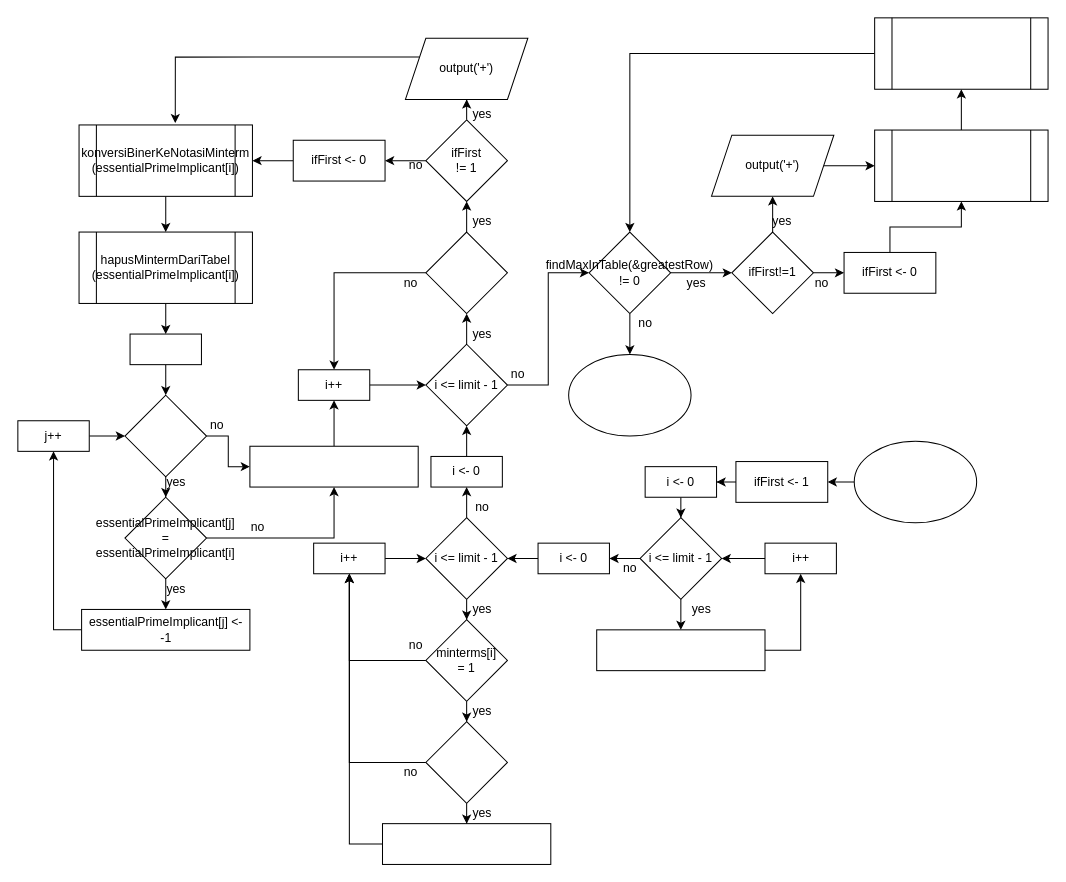
Some shapes in this 1066 by 882 pixel diagram are drawn without their labels. The centre of each missing label's shape, as x and y in pixels:
"banyakImplikan(i,&temp) =1" goes at pixel 466 762.
"essentialPrimeImplicant[i] != -1" goes at pixel 466 272.
"essentialPrimeImplicant[i] <- -1" goes at pixel 680 650.
"essentialPrimeImplicant[i] <- temp" goes at pixel 466 843.
"essentialPrimeImplicant[i]=-1" goes at pixel 333 466.
"FINISH" goes at pixel 629 394.
"hapusMintermDariTabel (greatestRow)" goes at pixel 961 53.
"j <- i + 1" goes at pixel 165 349.
"j <= limit-1" goes at pixel 165 435.
"konversiBinerKeNotasiMinterm (greatestRow)" goes at pixel 961 165.
"START" goes at pixel 915 481.
